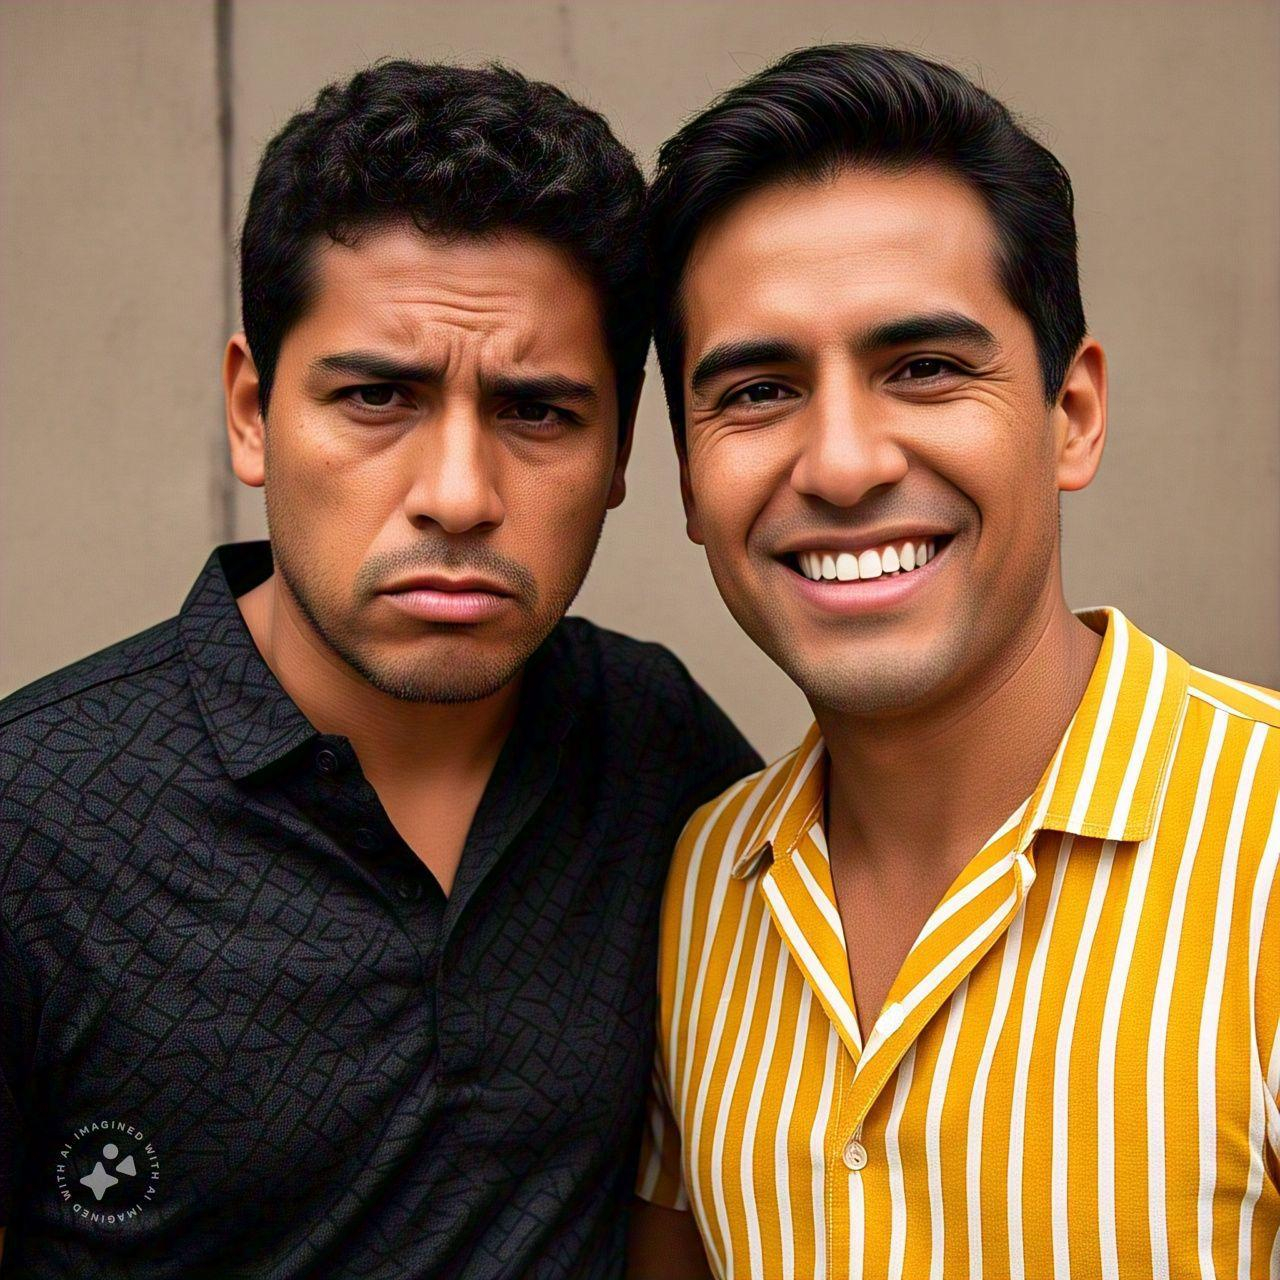feliz: (658, 150, 1102, 690)
triste: (282, 142, 626, 702)
